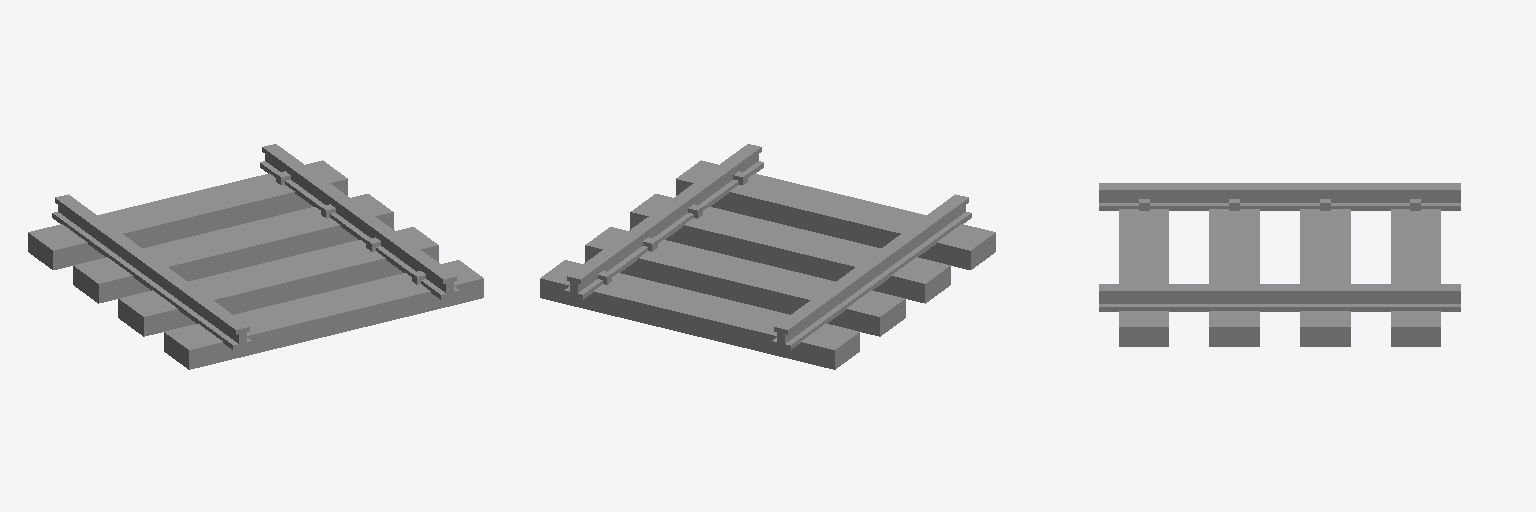
File: track_long_straight.obj
3 views of the same model, side by side, from view 1: azimuth 30°, elevation 25°; view 2: azimuth 150°, elevation 25°; view 3: azimuth 270°, elevation 25° (orthographic).
Parts seen in each view (by area): view 1: Track_normal; view 2: Track_normal; view 3: Track_normal.
Boxes of the visible parts, x1=… form: Track_normal: x1=28, y1=144, x2=483, y2=369; Track_normal: x1=540, y1=144, x2=995, y2=369; Track_normal: x1=1099, y1=183, x2=1460, y2=346.
Size of the model in its own units: 0.94 by 0.1158 by 1.